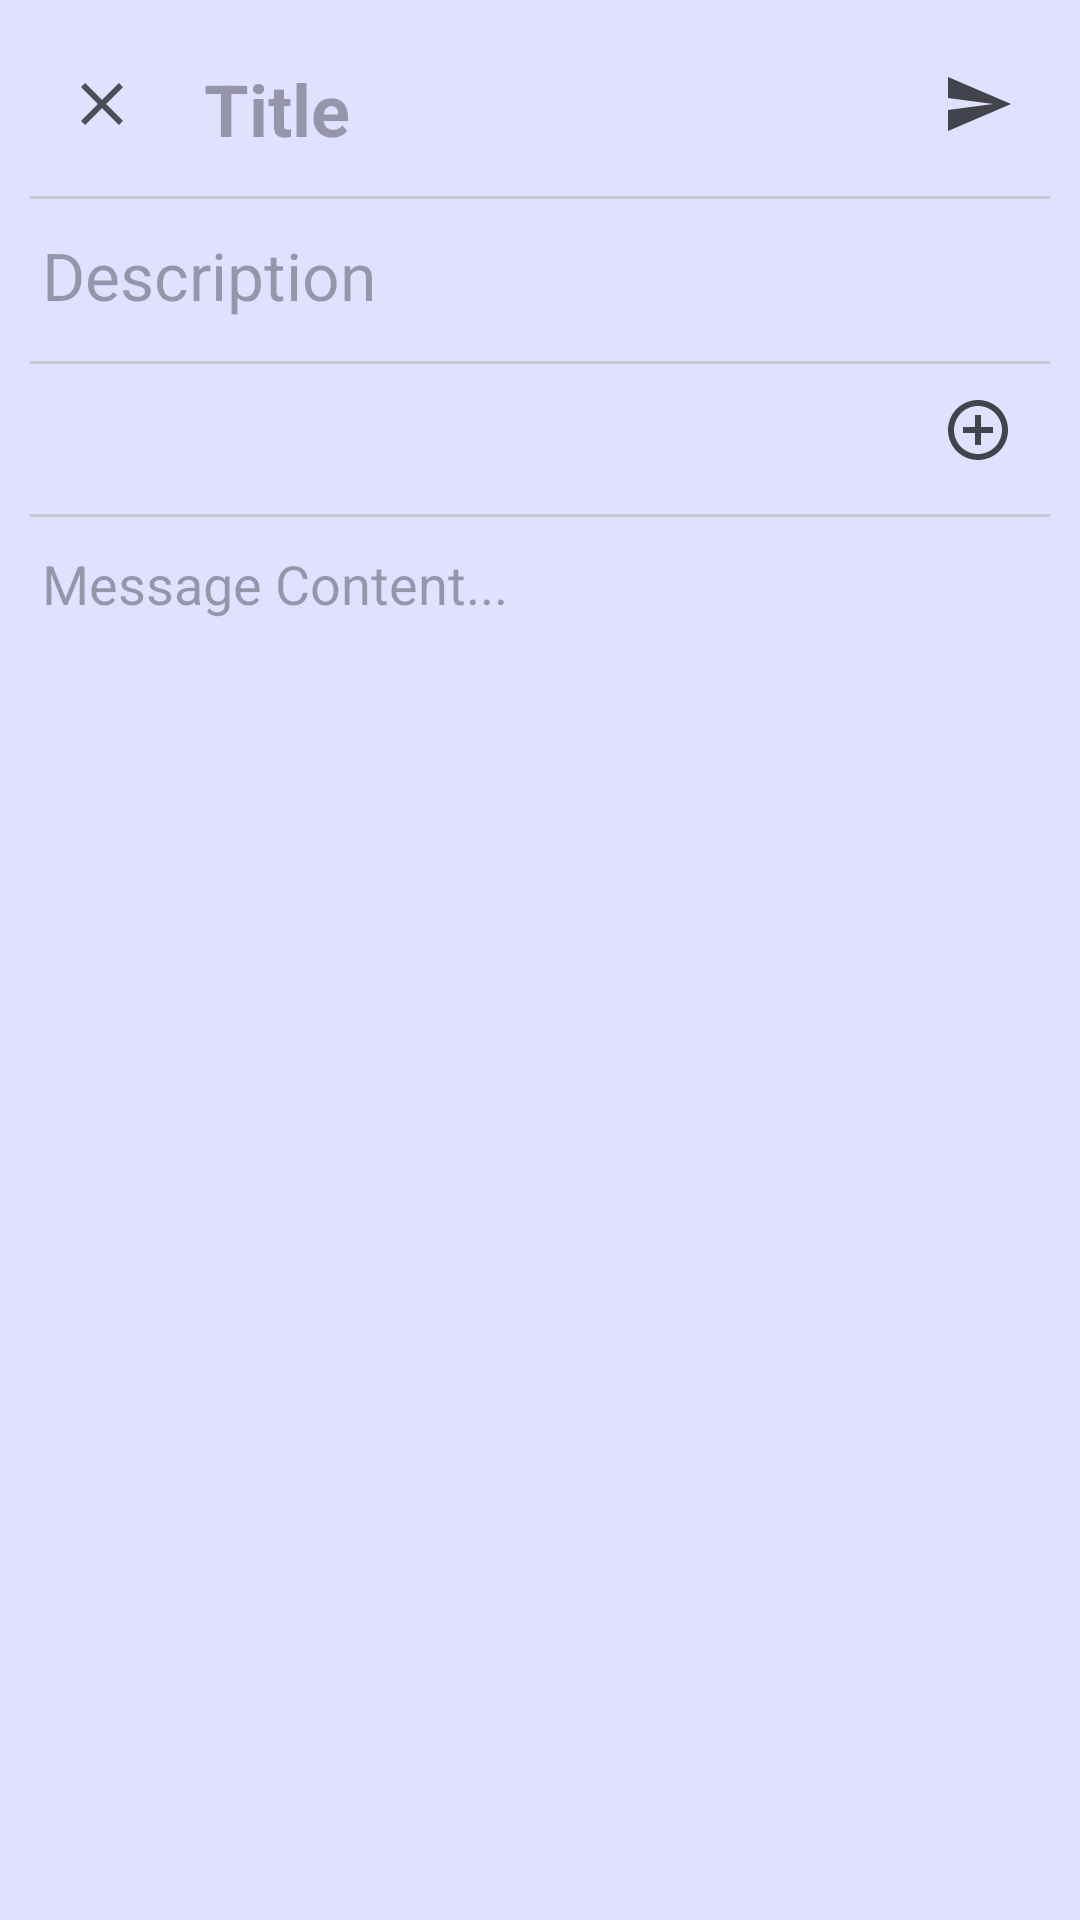

Locate icon controls on the screen. Image size 1080x1920, boxes as (x1, y1, x2, y2).
add circle: (948, 400, 1008, 460)
close: (81, 83, 123, 125)
send: (948, 77, 1011, 131)
